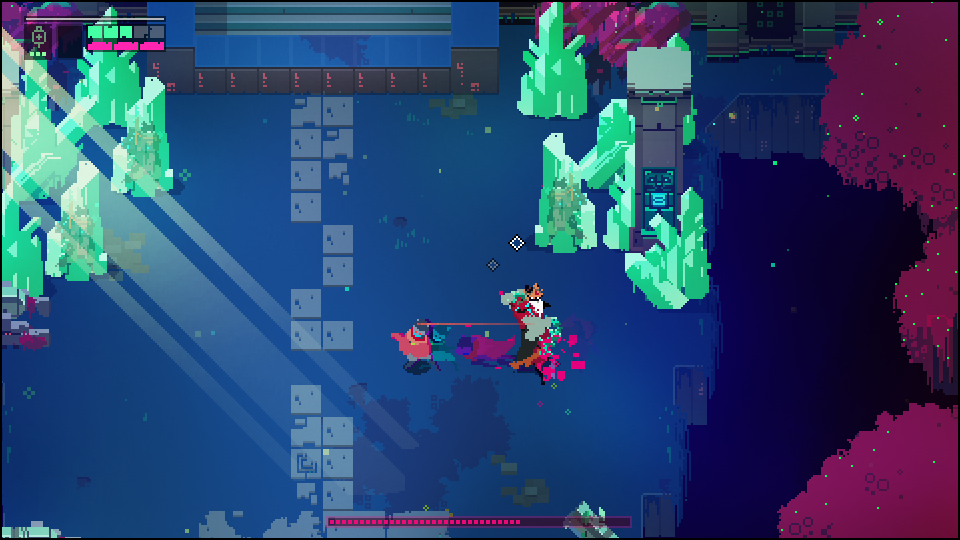hanged_man: (485, 284, 562, 380)
player: (391, 321, 433, 372)
